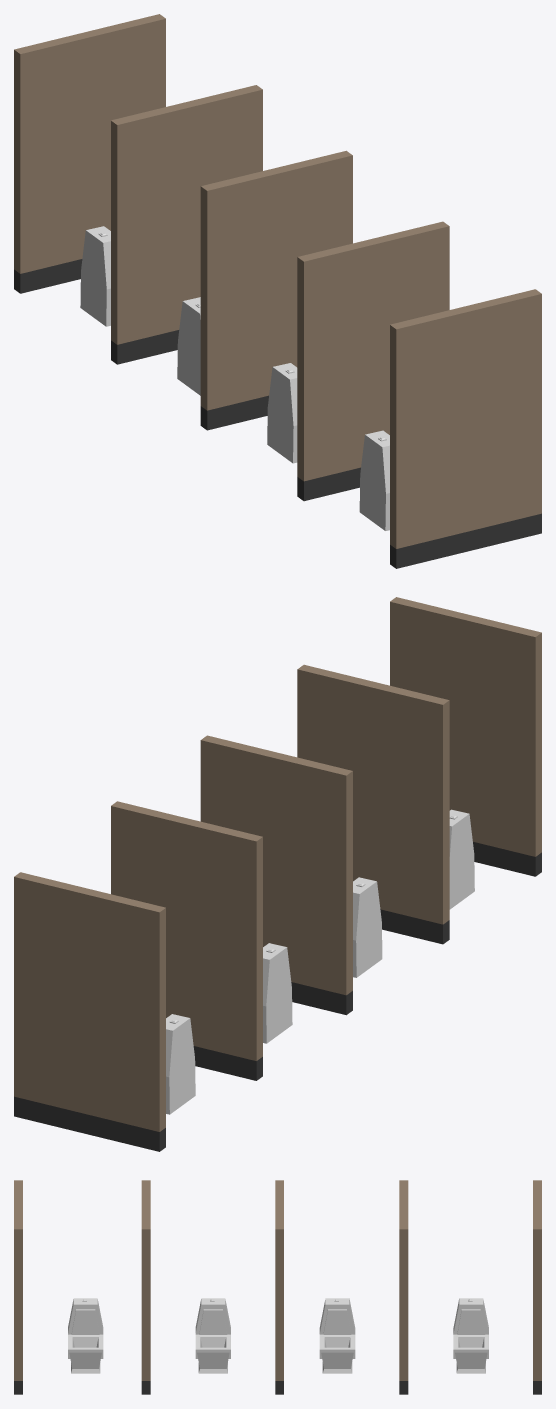
File: toilet.fbx
The picture shows the model from 3 angles, top to bottom: view 1: azimuth 30°, elevation 25°; view 2: azimuth 150°, elevation 25°; view 3: azimuth 270°, elevation 25°; orthographic projection. The views are drawn at different scales.
Parts seen in each view (by area): view 1: Cube.007; view 2: Cube.007; view 3: Cube.007.
Part boxes in pixels (<box>): Cube.007: <box>14,14,541,568</box>; Cube.007: <box>14,597,541,1151</box>; Cube.007: <box>14,1180,541,1394</box>.
Bounding box in the file's own units: 97.84 × 154 × 445.
